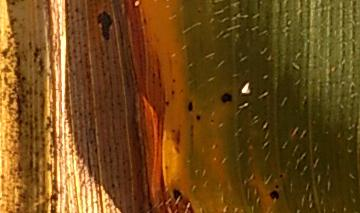tarspot: (94, 10, 114, 42), (220, 91, 234, 105), (267, 188, 279, 201), (171, 187, 182, 201), (186, 98, 194, 114), (162, 98, 171, 106), (277, 172, 285, 180), (194, 114, 202, 121), (169, 89, 176, 97), (109, 182, 117, 189), (302, 98, 309, 106), (170, 77, 177, 84), (208, 117, 215, 124), (272, 183, 280, 189), (195, 8, 202, 14), (10, 1, 17, 7), (169, 127, 175, 133)
